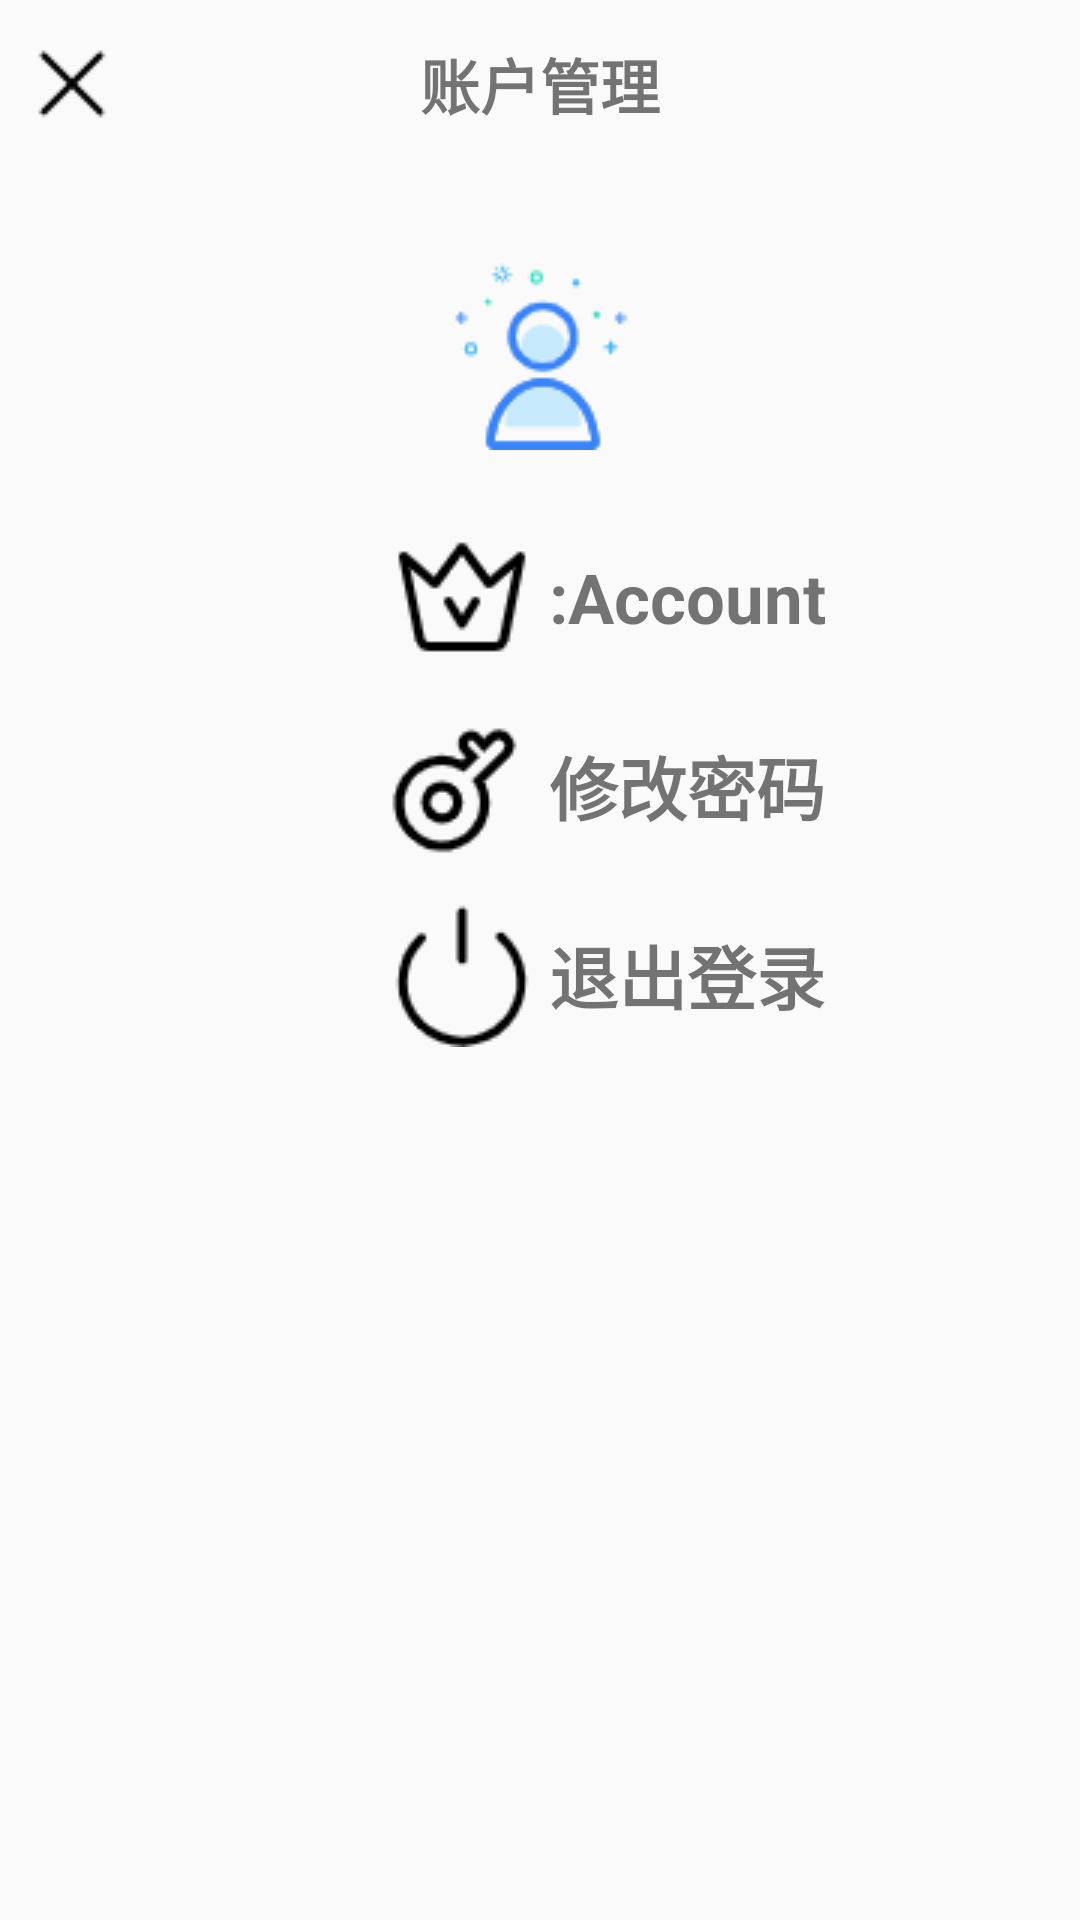

Where to tap for icons on this 1080 × 1920 app screen, as [x,y]:
back: [72,84]
exit: [462,976]
key: [454,790]
user: [541,357]
